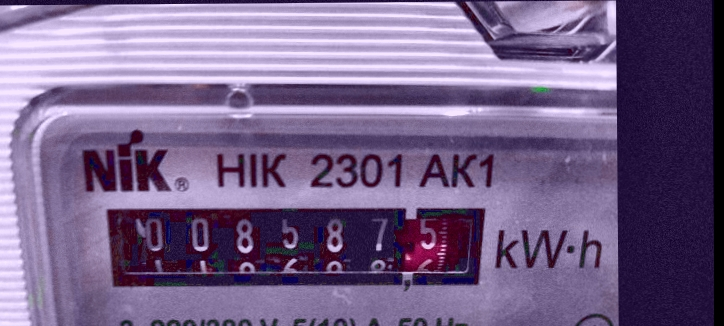0: (187, 213, 211, 253)
1: (141, 213, 165, 254)
5: (416, 212, 440, 252), (278, 213, 301, 251)
7: (367, 213, 390, 255)
8: (231, 215, 256, 256), (323, 214, 344, 255)
screen: (86, 185, 505, 308)
